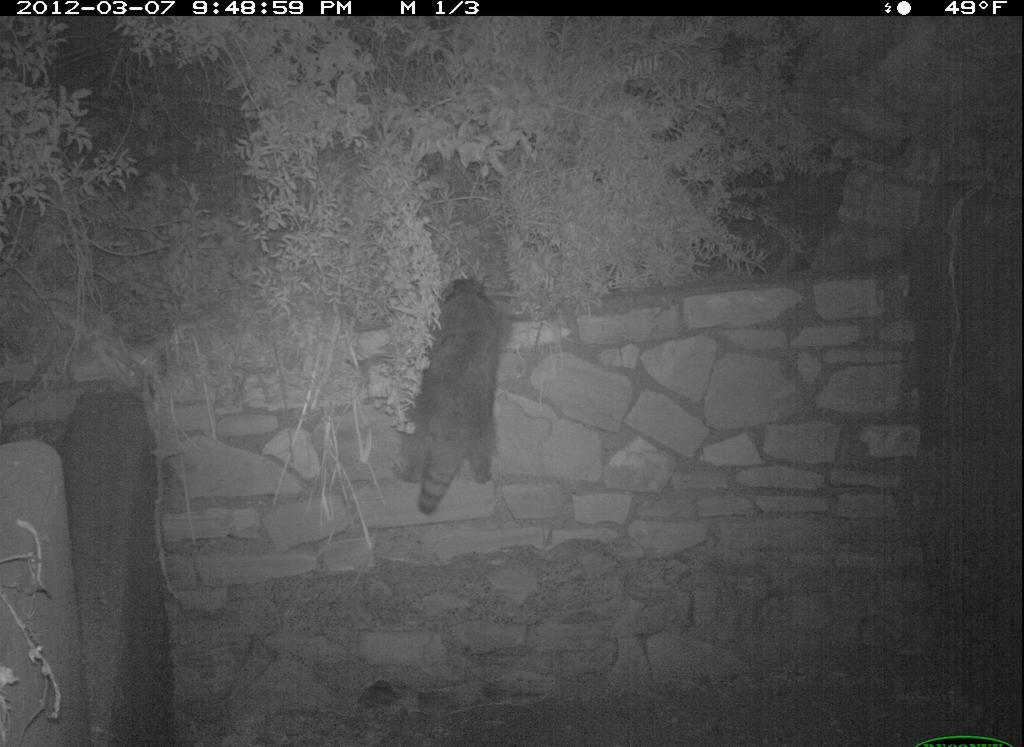raccoon: (388, 272, 516, 520)
